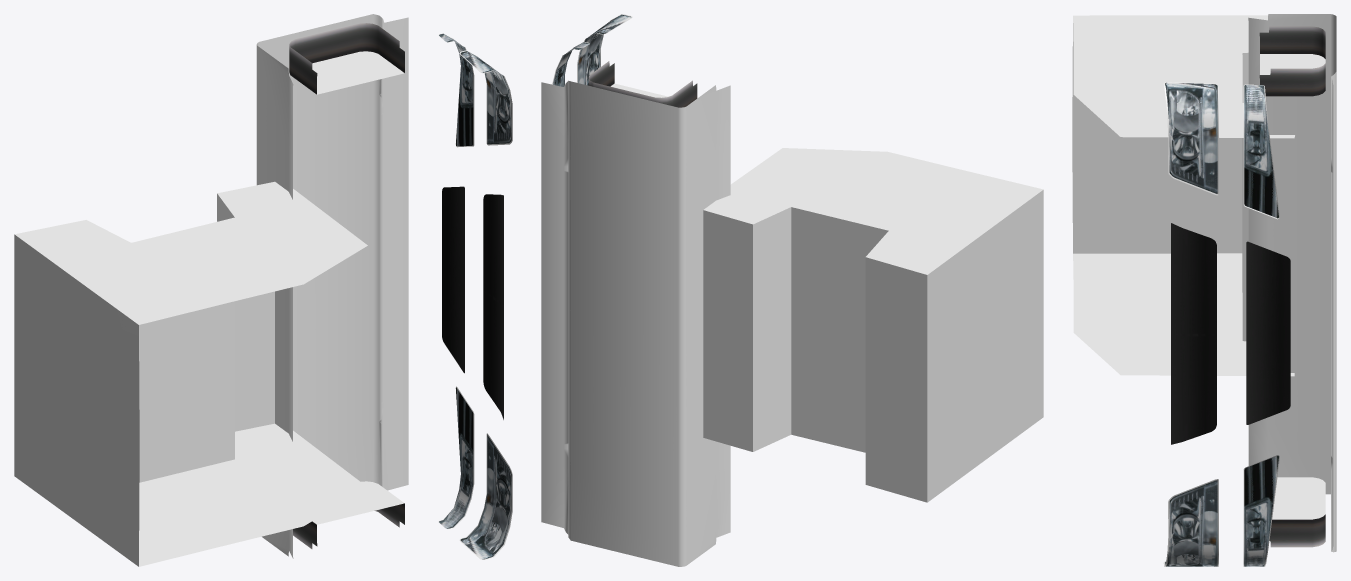
Rendered from bumper_detail.obj.
The picture shows the model from 3 angles, left to right: view 1: azimuth 30°, elevation 25°; view 2: azimuth 150°, elevation 25°; view 3: azimuth 270°, elevation 25°; orthographic projection. The views are drawn at different scales.
Visible parts, largest first — view 1: objunderbody, underbody01, details, trim; view 2: objunderbody, underbody01, details; view 3: objunderbody, details, underbody01, trim.
Part boxes in pixels (x1,y1,x2,y2): objunderbody: (14,181,367,566); underbody01: (256,14,408,558); details: (289,23,511,559); trim: (438,33,512,559); objunderbody: (703,148,1043,502); underbody01: (541,80,730,566); details: (553,14,697,107); objunderbody: (1072,15,1295,376); details: (1165,26,1325,566); underbody01: (1248,14,1336,552); trim: (1163,82,1279,566).
Size of the model in its own units: 2.21 by 2.44 by 1.22.
1 material, 1 textured.
